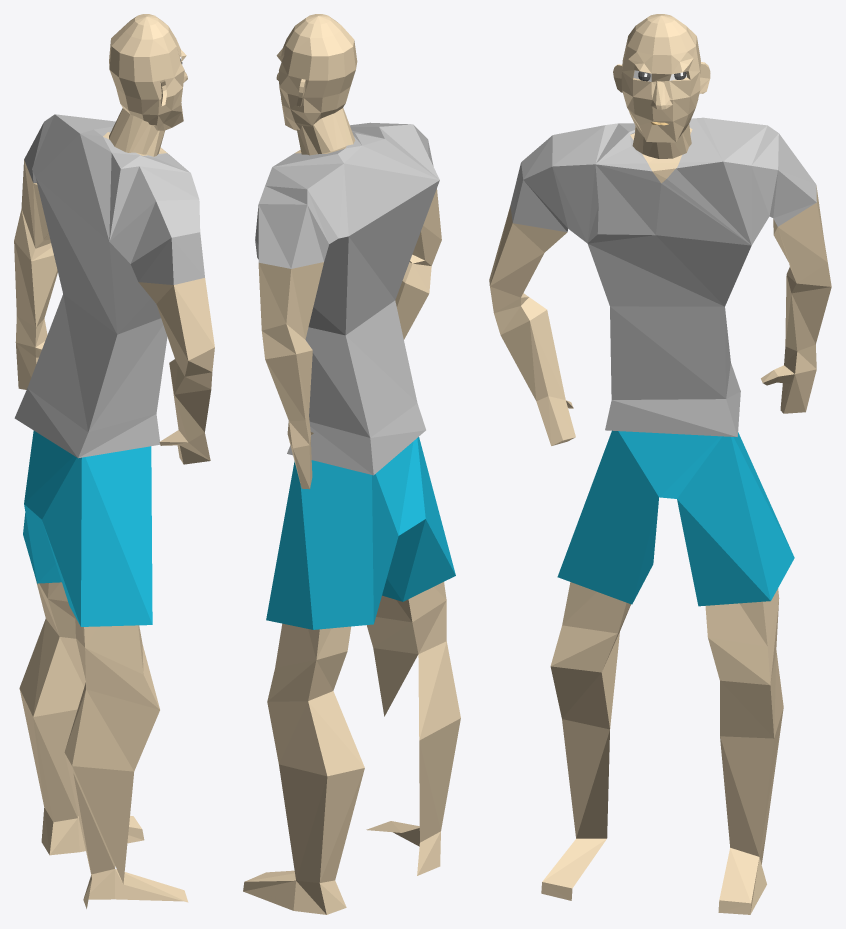
The model's file is Beach-bro.glb.
The picture shows the model from 3 angles, left to right: view 1: azimuth 30°, elevation 25°; view 2: azimuth 150°, elevation 25°; view 3: azimuth 270°, elevation 25°; orthographic projection. The views are drawn at different scales.
Parts seen in each view (by area): view 1: Node; view 2: Node; view 3: Node.
Boxes of the visible parts, x1=… form: Node: x1=14, y1=14, x2=214, y2=908; Node: x1=243, y1=14, x2=460, y2=914; Node: x1=489, y1=14, x2=831, y2=914.
Bounding box in the file's own units: 1.44 × 7.9 × 2.76.
